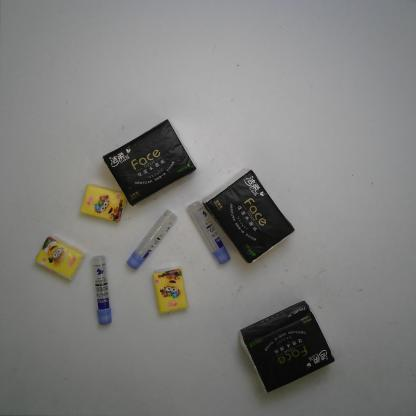Stationery: (125, 208, 178, 271), (186, 200, 232, 264), (90, 256, 113, 325)
Tissue: (200, 167, 295, 266), (235, 300, 334, 394), (100, 118, 197, 207), (33, 234, 86, 281), (80, 183, 127, 223), (152, 266, 188, 314)
